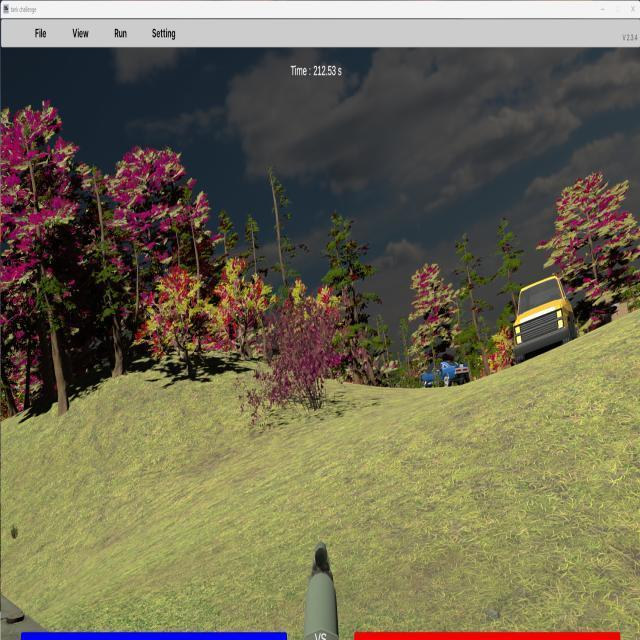car: (513, 276, 576, 363), (439, 360, 470, 388)
